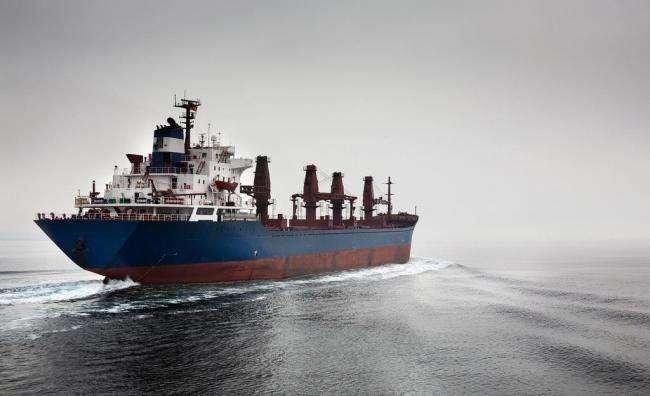Cargoship: (35, 89, 420, 293)
